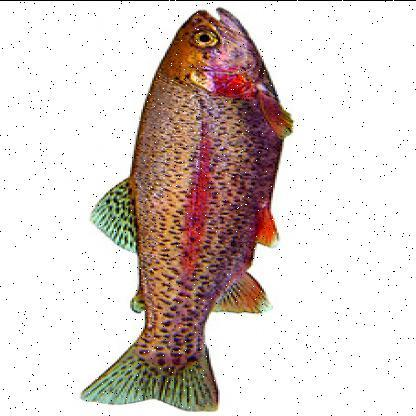fish: (80, 6, 290, 415)
